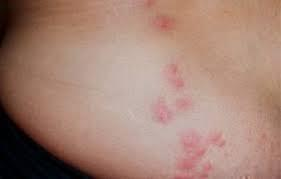Bed Bugs: (173, 126, 226, 179), (147, 83, 195, 126), (161, 60, 187, 97), (147, 97, 177, 127), (162, 61, 186, 93), (148, 12, 175, 34), (146, 0, 155, 7)
